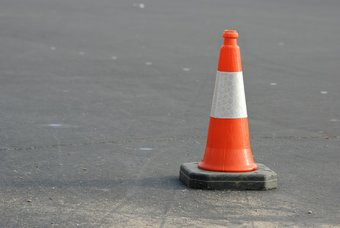cones: (174, 27, 280, 192)
